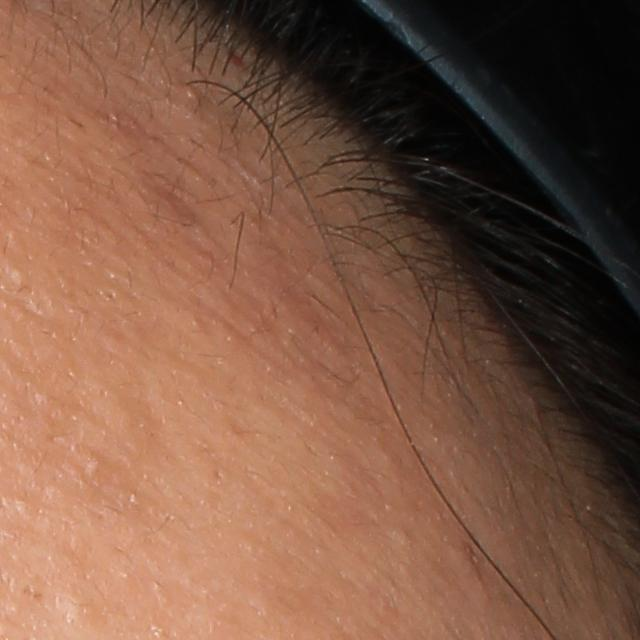comedo: (59, 592, 100, 629), (84, 454, 101, 478)
